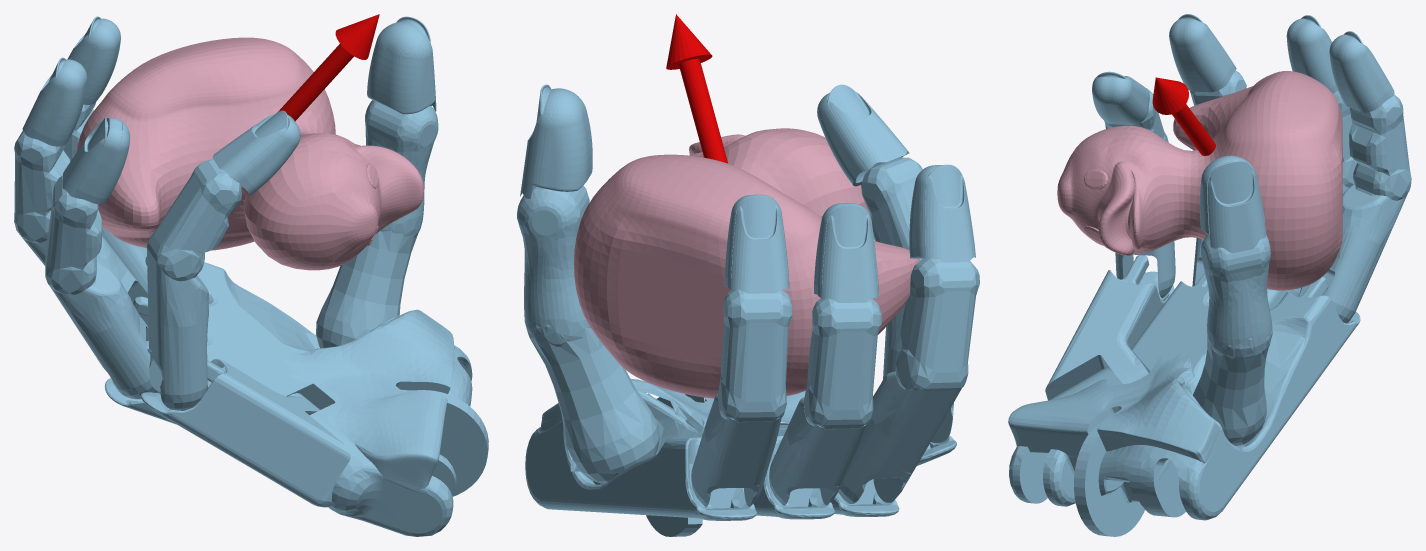
3 renders of one model, left to right at view 1: azimuth 30°, elevation 25°; view 2: azimuth 150°, elevation 25°; view 3: azimuth 270°, elevation 25°, orthographic. The views are drawn at different scales.
Visible parts, largest first — view 1: world, rubber_duck.stl; view 2: world, rubber_duck.stl; view 3: world, rubber_duck.stl.
Boxes of the visible parts, x1=… form: world: x1=14, y1=14, x2=488, y2=536; rubber_duck.stl: x1=76, y1=37, x2=423, y2=270; world: x1=517, y1=14, x2=979, y2=536; rubber_duck.stl: x1=573, y1=128, x2=919, y2=398; world: x1=1008, y1=14, x2=1411, y2=536; rubber_duck.stl: x1=1057, y1=71, x2=1342, y2=290.
Bounding box in the file's own units: 0.1462 × 0.1644 × 0.1355.
